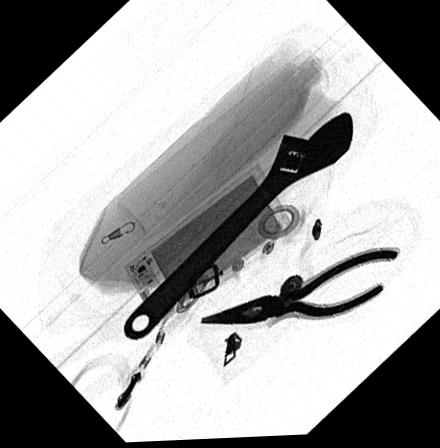Pliers: (198, 253, 397, 325)
Powerbank: (119, 163, 295, 326)
Wrench: (123, 113, 355, 342)
